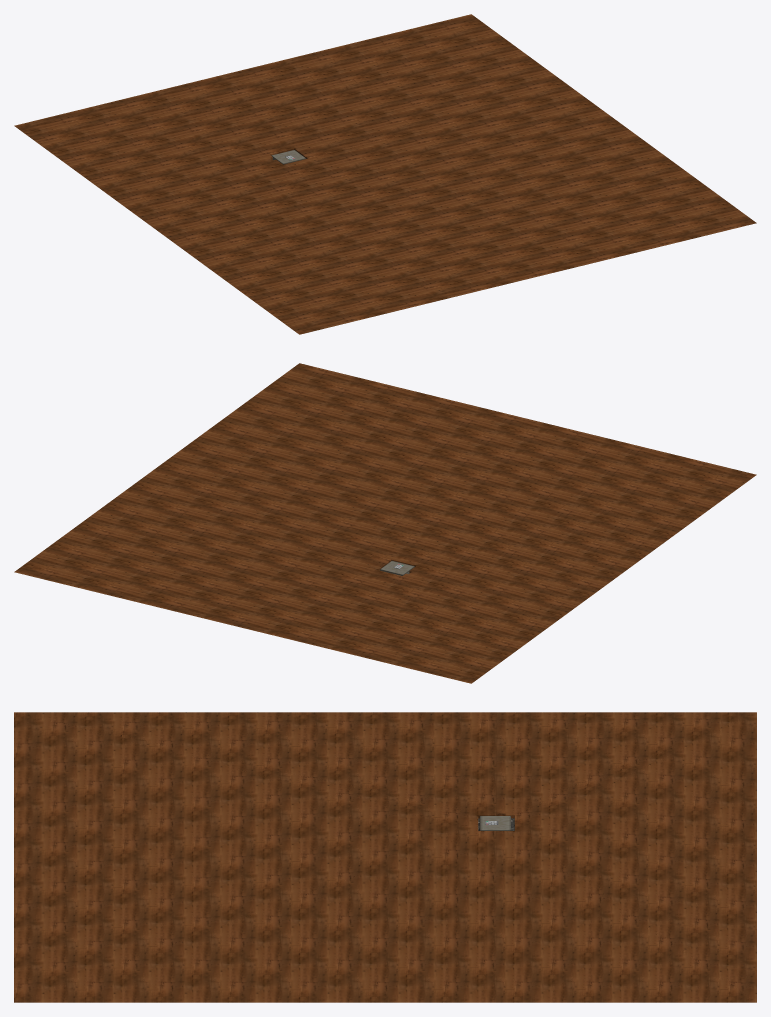
File: Floor.fbx
3 views of the same model, one above another, from view 1: azimuth 30°, elevation 25°; view 2: azimuth 150°, elevation 25°; view 3: azimuth 270°, elevation 25° (orthographic). The views are drawn at different scales.
Visible parts, largest first — view 1: Floor; view 2: Floor; view 3: Floor.
Part boxes in pixels (box(x1,y1,x2,y2)): Floor: box(14, 14, 756, 334); Floor: box(14, 363, 756, 683); Floor: box(14, 712, 756, 1002).
Size of the model in its own units: 43.88 by 1.42 by 47.43.
4 materials, 4 textured.
